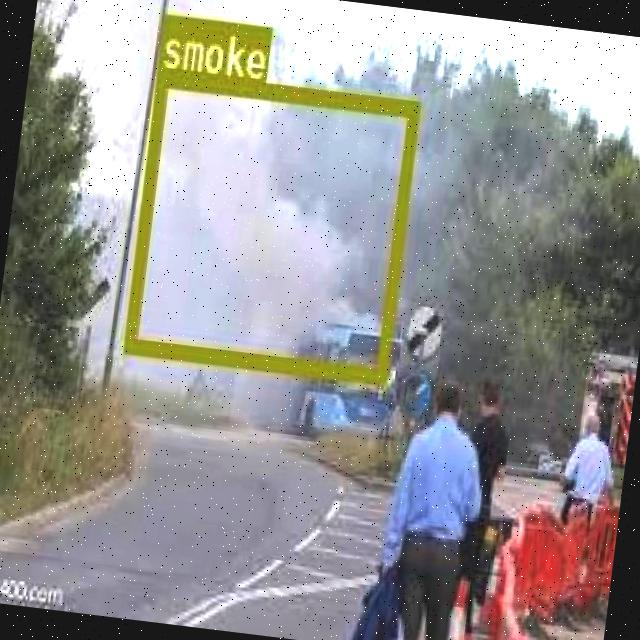smoke: (122, 69, 417, 382)
